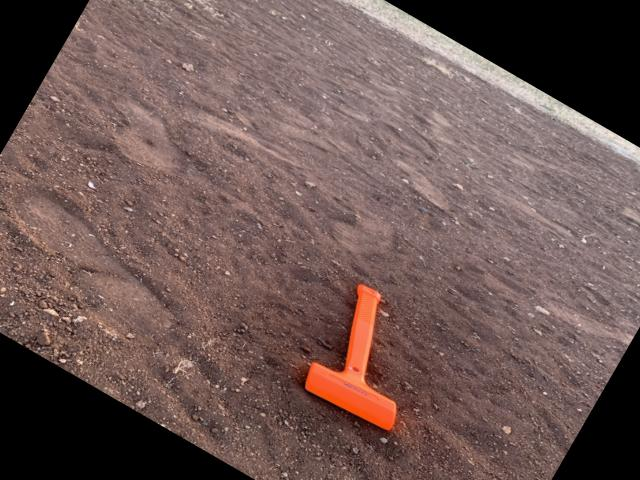hammer: (296, 280, 449, 438)
